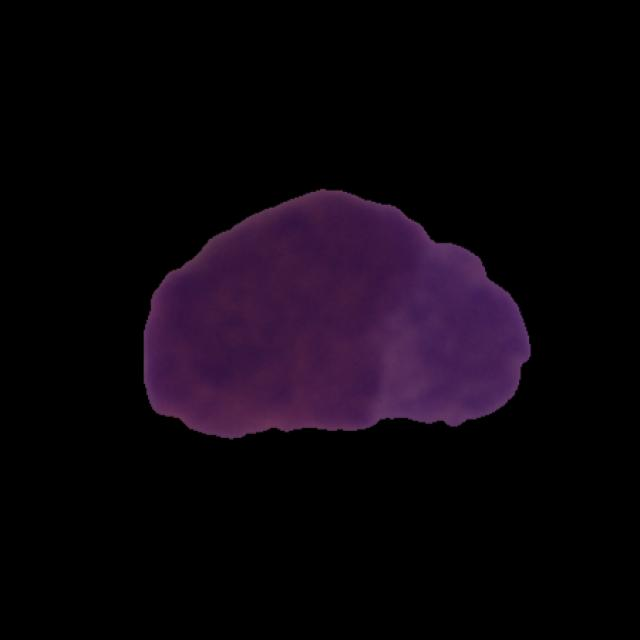ALL Negative Cells: (143, 192, 526, 427)
